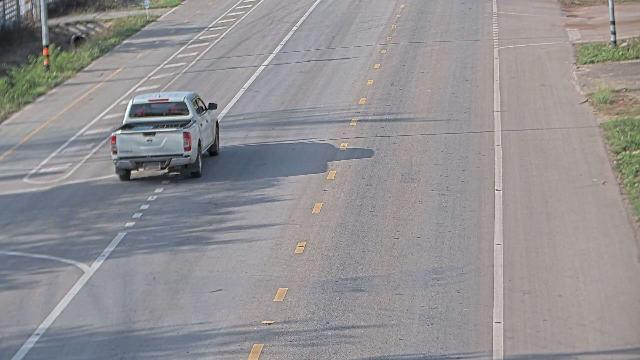pickup-truck: (109, 90, 220, 181)
